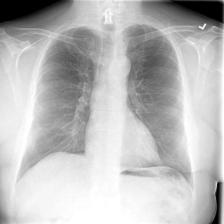normal: (13, 24, 198, 197)
